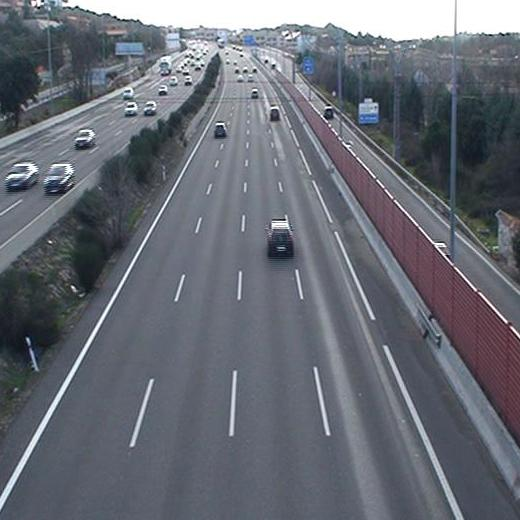car: (261, 215, 297, 261), (213, 121, 228, 140), (268, 107, 283, 124)
